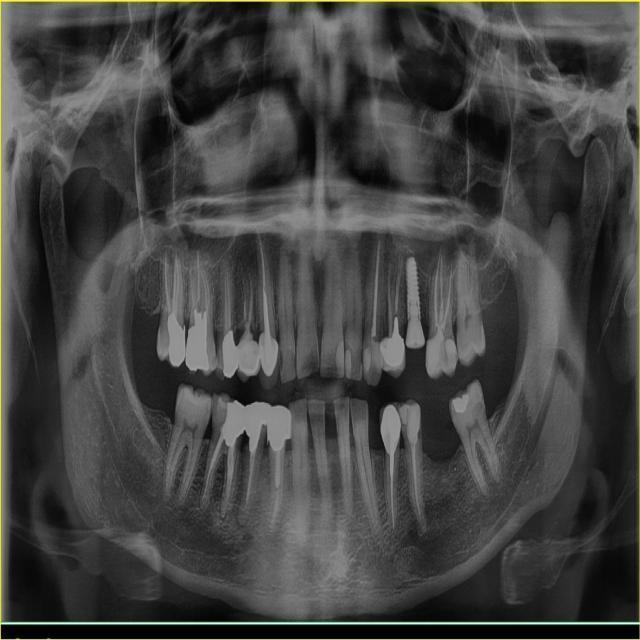Caries: (473, 394, 486, 419), (279, 348, 285, 375), (358, 341, 362, 365)
Crown: (381, 402, 403, 456), (259, 334, 279, 390), (267, 406, 291, 451), (380, 338, 406, 377)
Filling: (424, 330, 458, 378), (186, 310, 210, 372), (244, 403, 270, 451), (221, 401, 246, 448), (237, 341, 262, 383), (167, 314, 186, 366), (399, 400, 420, 446), (222, 331, 239, 378), (372, 337, 382, 373), (336, 340, 345, 377), (452, 394, 468, 413), (362, 347, 371, 375), (344, 350, 351, 378)
Implant: (405, 257, 426, 350)
Missing teeth: (421, 403, 466, 465)
Root Canal Treatment: (199, 431, 224, 507), (238, 266, 253, 345), (440, 254, 452, 335), (411, 443, 422, 522), (372, 240, 381, 336), (223, 443, 234, 509), (434, 247, 442, 334), (256, 225, 266, 292), (246, 449, 255, 505), (395, 255, 403, 316), (438, 253, 444, 332), (201, 265, 209, 320), (388, 264, 393, 338), (198, 270, 207, 309), (174, 254, 179, 320), (171, 253, 176, 317), (269, 495, 278, 529), (227, 271, 232, 331), (166, 270, 172, 314), (224, 278, 228, 338), (190, 274, 196, 312), (390, 474, 394, 530), (197, 248, 201, 302)
